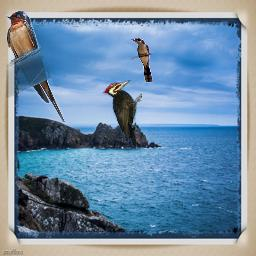Cuckoo: (131, 38, 153, 83)
Swallow: (6, 10, 65, 122)
Woodpecker: (102, 80, 142, 149)
